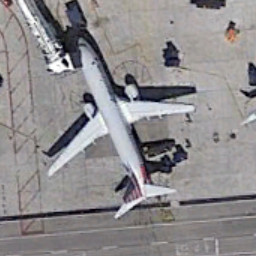Airplane: (24, 25, 208, 225)
